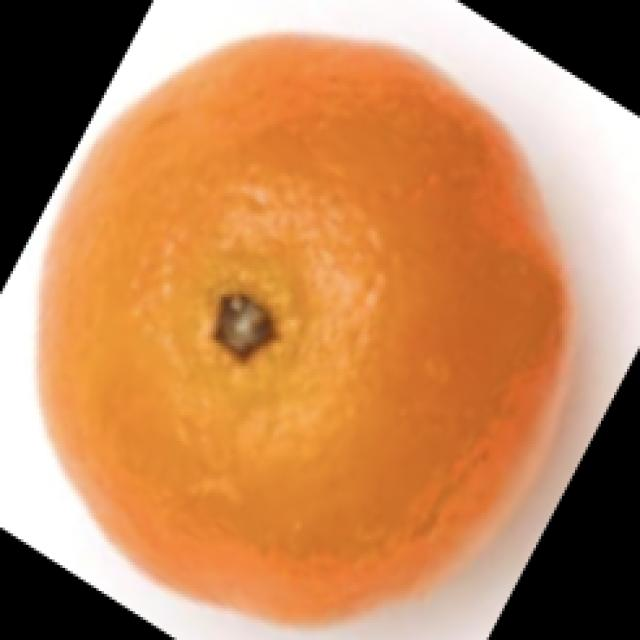orange: (39, 24, 579, 622)
